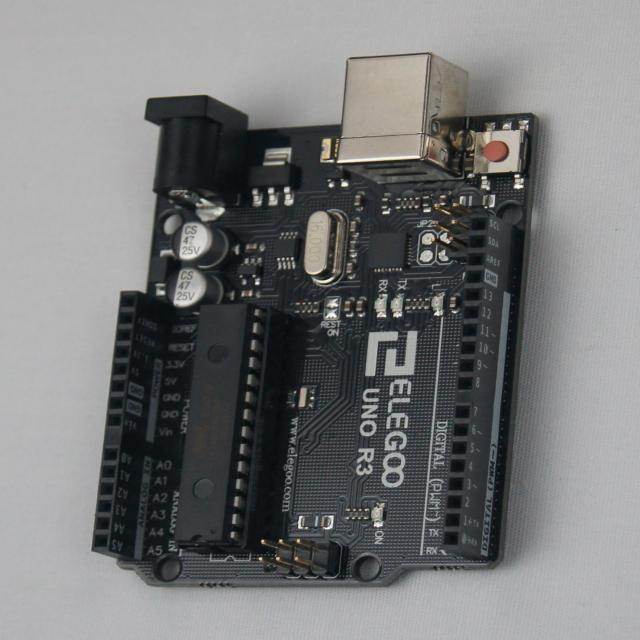Arduino Uno -Black-: (94, 54, 536, 585)
